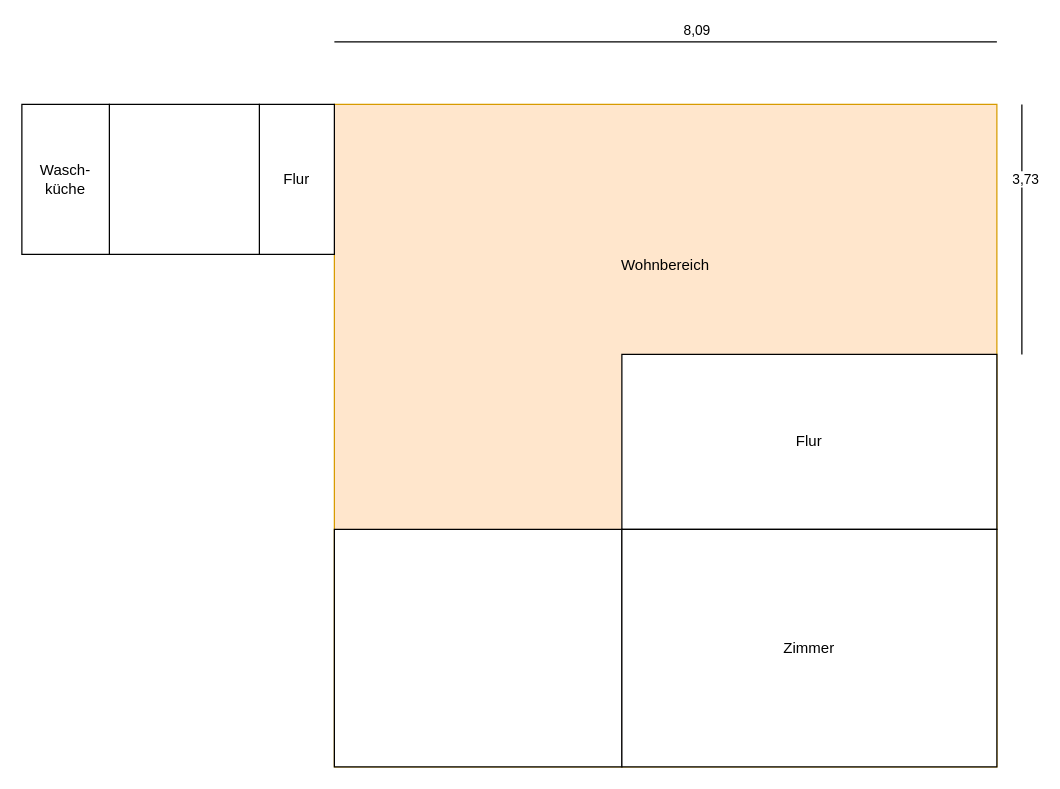
Some shapes in this 1060 by 789 pixel diagram are drawn without their labels. Each missing label, with the box of its shape:
Badezimmer: (108, 103, 259, 254)
Küche: (333, 528, 622, 767)
